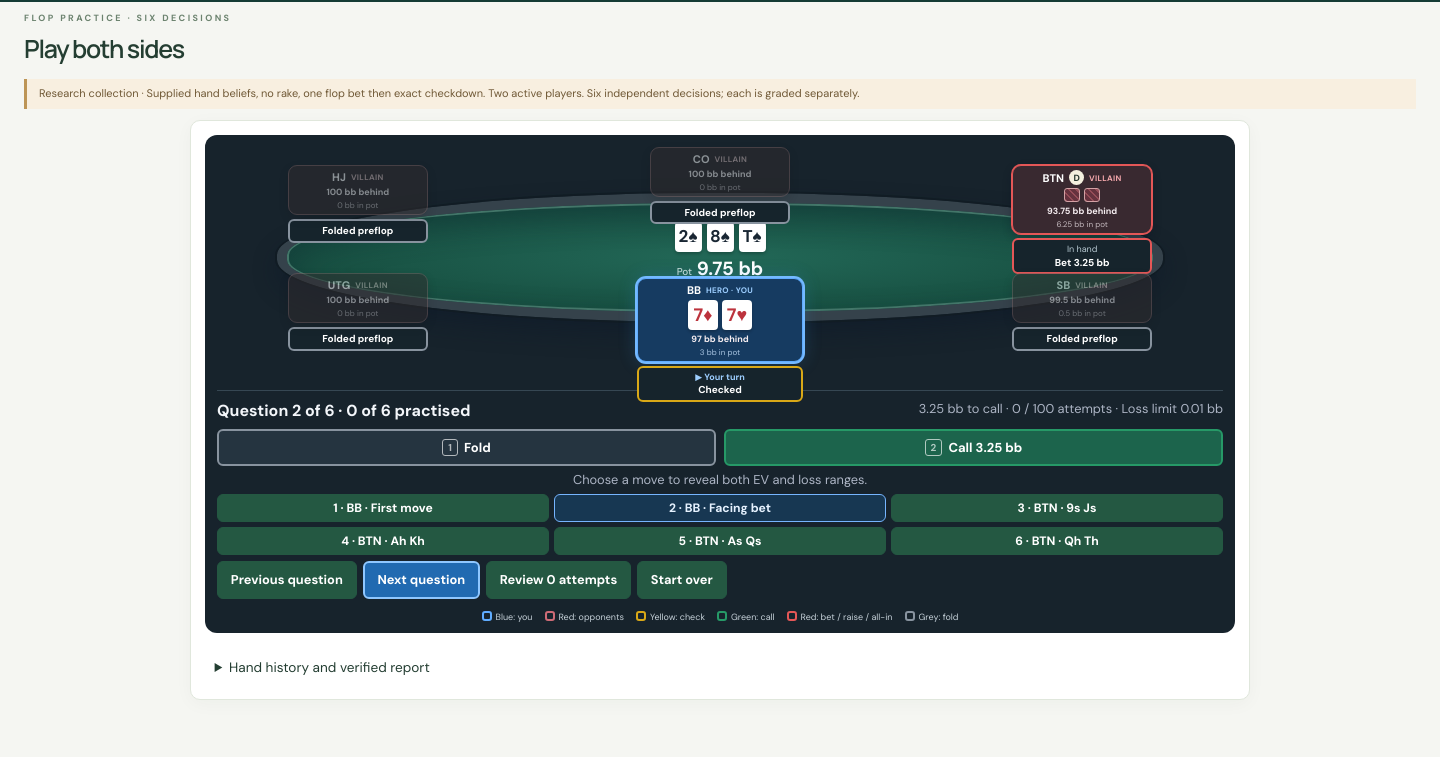
Test: supports a deep link to the later question and an empty review
Expected: the button "1 Fold" is shown, [217,429,716,466]
Click the button "Review 0 attempts": (558, 580) [486,561,631,599]
(page scrolled)
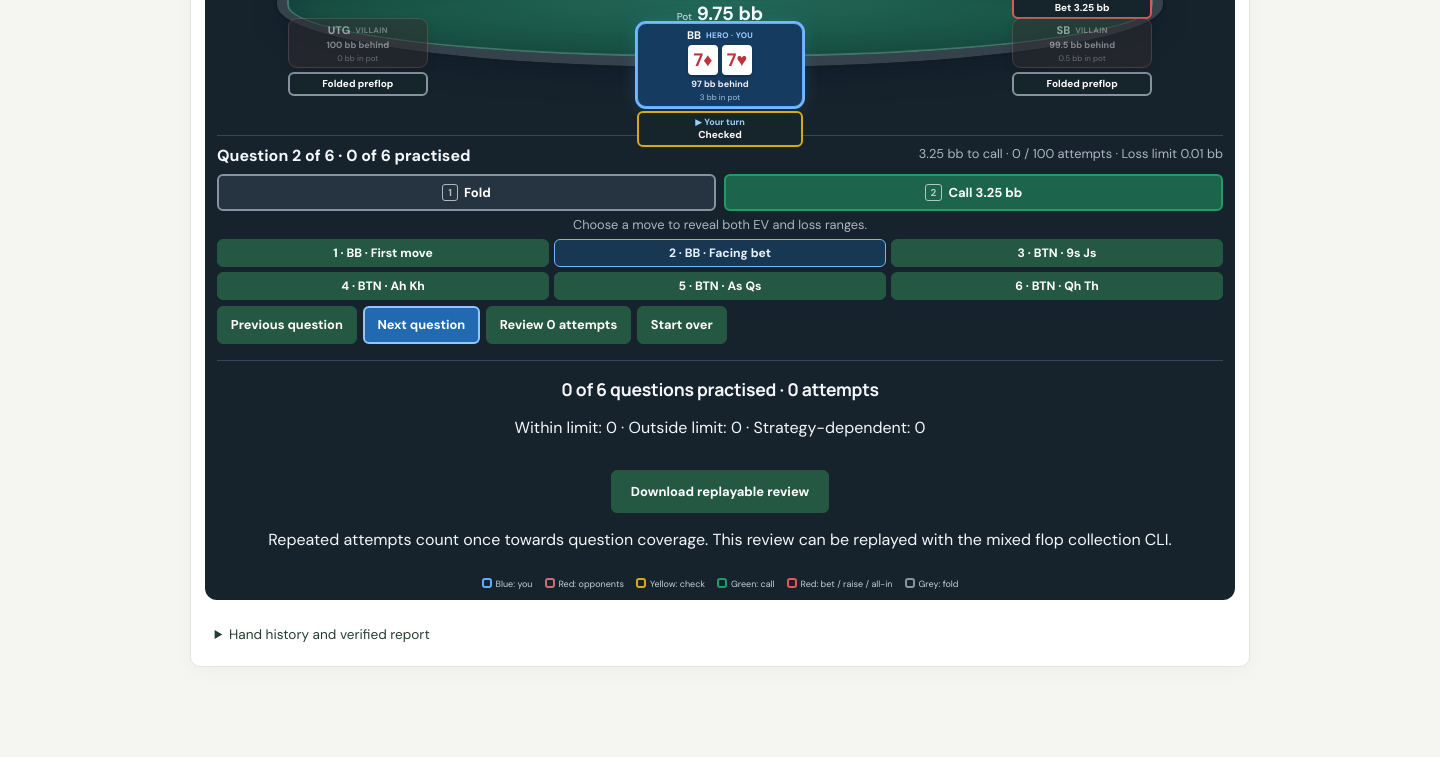
Expected: the element named "Mixed flop practice review" shows "0 of 6 questions practised · 0 attempts", [217,360,1223,550]
